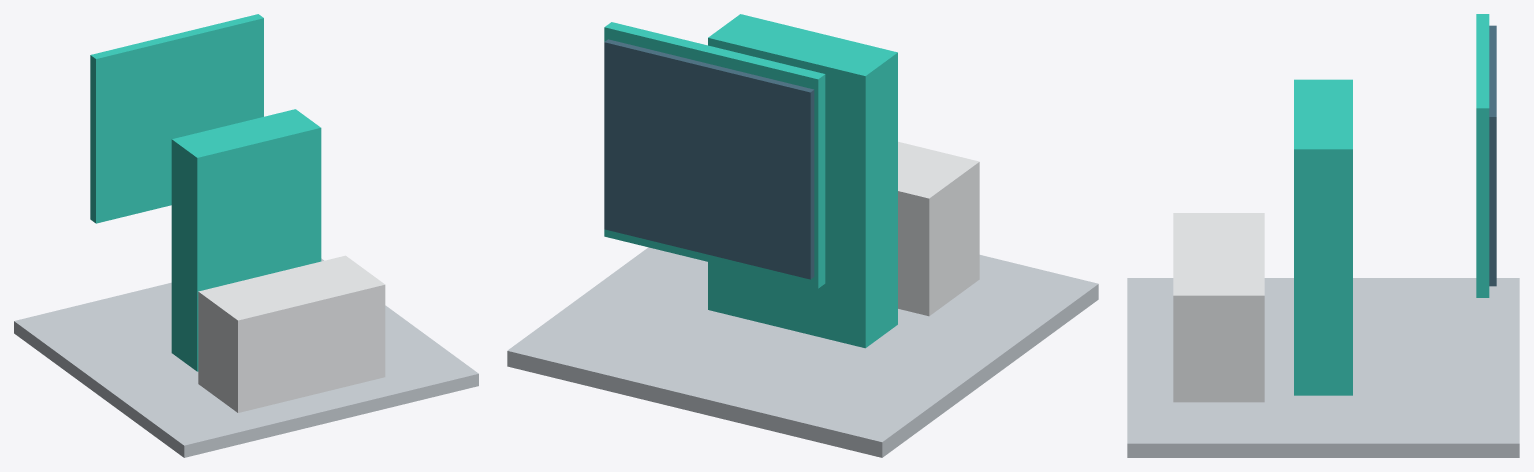
The picture shows the model from 3 angles, left to right: view 1: azimuth 30°, elevation 25°; view 2: azimuth 150°, elevation 25°; view 3: azimuth 270°, elevation 25°; orthographic projection. The views are drawn at different scales.
Parts seen in each view (by area): view 1: Exhibition Booth Concept; view 2: Exhibition Booth Concept; view 3: Exhibition Booth Concept.
Part boxes in pixels (bbox=[...]): Exhibition Booth Concept: bbox=[14, 14, 478, 457]; Exhibition Booth Concept: bbox=[507, 14, 1098, 457]; Exhibition Booth Concept: bbox=[1127, 14, 1519, 457].
Bounding box in the file's own units: 3 × 2.65 × 3.
